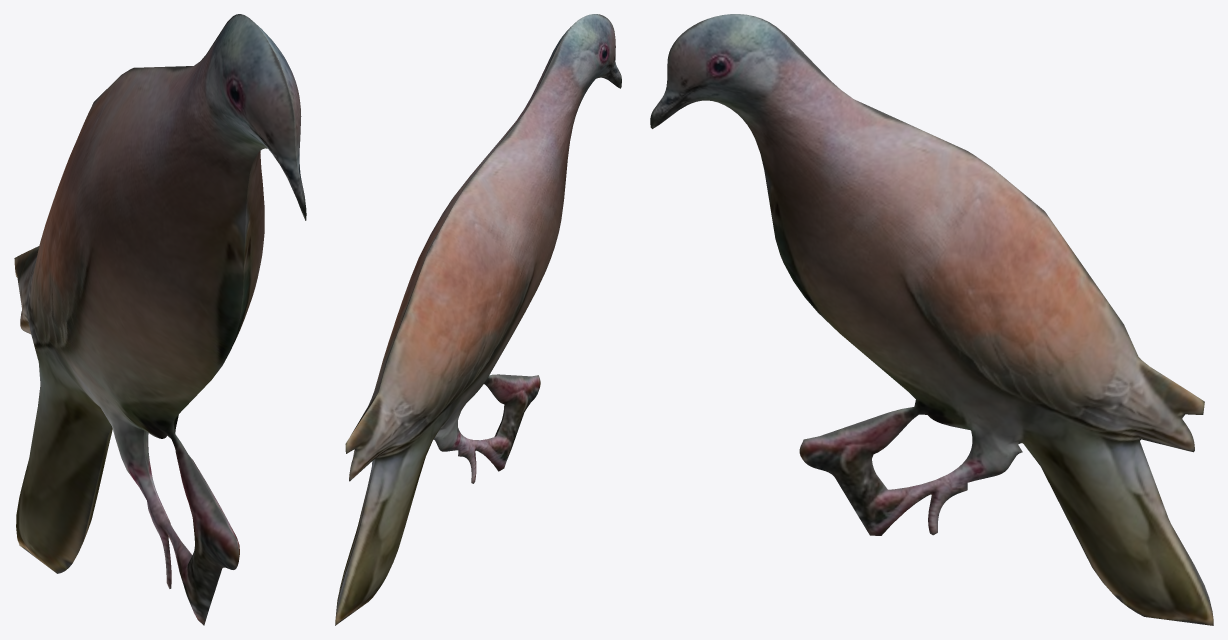
Rendered from 1800-removebg-preview.gltf.
3 renders of one model, left to right at view 1: azimuth 30°, elevation 25°; view 2: azimuth 150°, elevation 25°; view 3: azimuth 270°, elevation 25°, orthographic. The views are drawn at different scales.
Visible parts, largest first — view 1: node1; view 2: node1; view 3: node1.
Part boxes in pixels (x1,y1,x2,y2): node1: (14, 14, 306, 625); node1: (335, 14, 621, 625); node1: (650, 14, 1213, 625).
Bounding box in the file's own units: 0.2831 × 1.35 × 1.19.
1 material, 1 textured.
